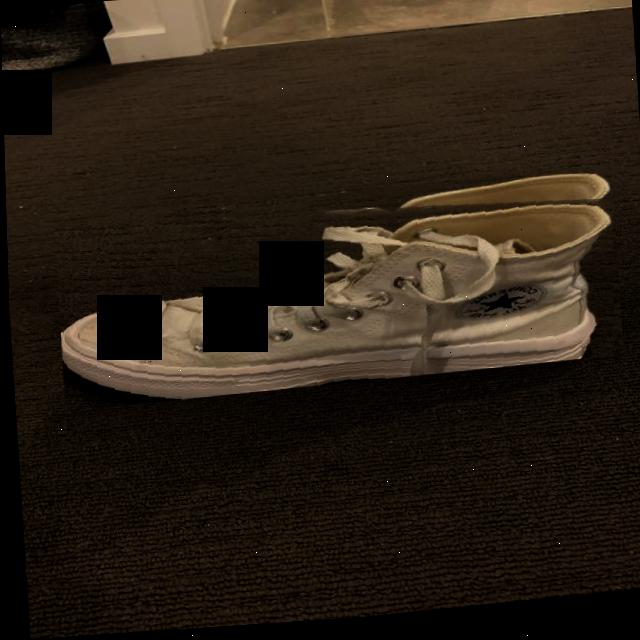shoe: (51, 173, 621, 412)
